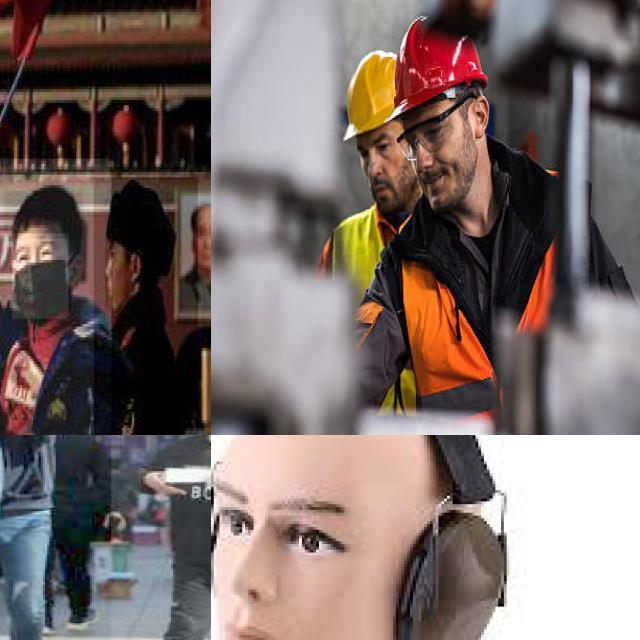Ear-protection: (390, 501, 506, 640)
No_Ear-Protection: (68, 246, 88, 292), (472, 95, 490, 140), (128, 249, 142, 285)
No_Glasses: (356, 124, 399, 165)
face_mask: (12, 233, 68, 319)
face_nomask: (413, 119, 478, 213), (367, 149, 414, 214), (105, 239, 129, 308)
glasses: (397, 94, 477, 161)
head_helmet: (389, 18, 488, 118), (343, 51, 395, 140)
head_nohelmet: (4, 190, 83, 238)
person: (0, 158, 111, 435), (93, 177, 199, 435), (0, 435, 113, 640), (139, 435, 211, 640)
